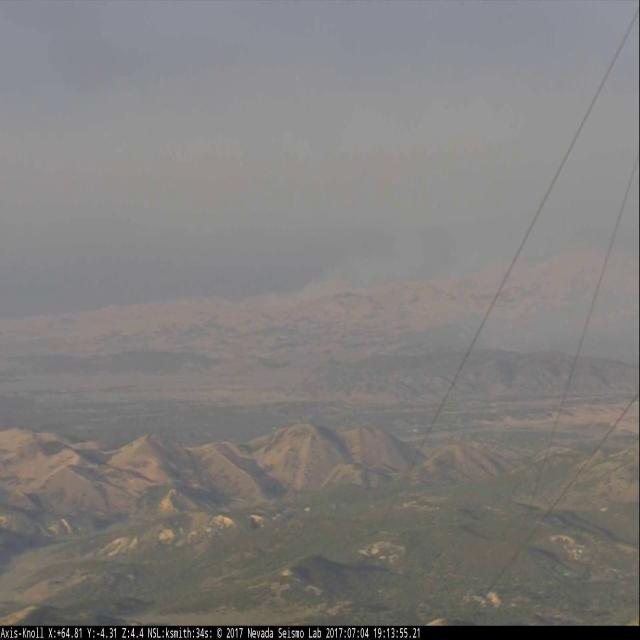smoke: (299, 193, 640, 312), (453, 297, 640, 354)
